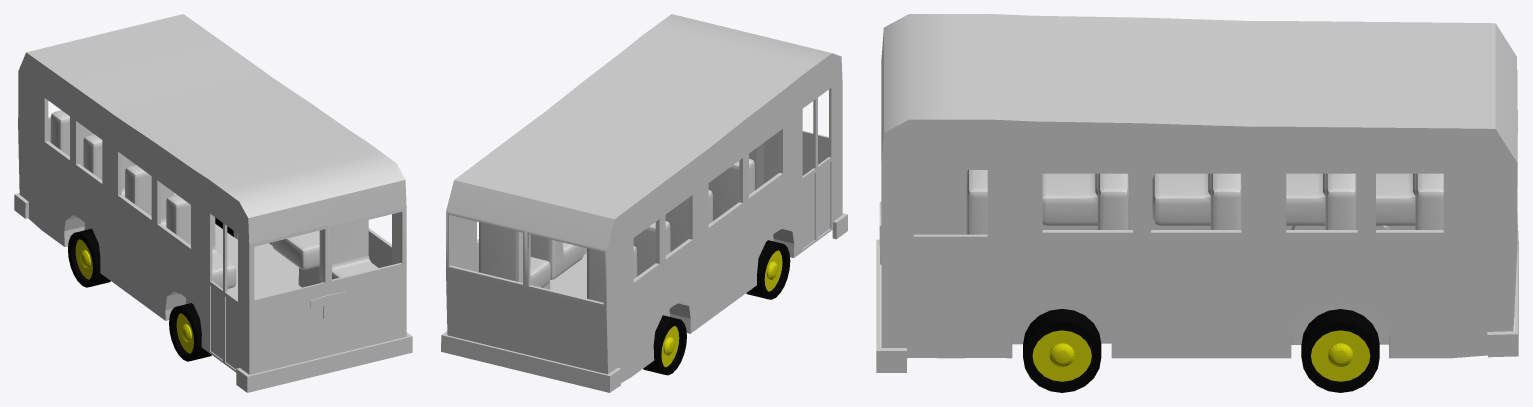
The model's file is Buss_new.fbx.
3 renders of one model, left to right at view 1: azimuth 30°, elevation 25°; view 2: azimuth 150°, elevation 25°; view 3: azimuth 270°, elevation 25°, orthographic. The views are drawn at different scales.
Parts seen in each view (by area): view 1: pCube1, pCube2, pCube26, pCube31, pCylinder13, pCylinder12, pPlane1, pCube32, pCube27, pCube34, pCube33, pCube4; view 2: pCube1, pCube3, pCube30, pPlane1, pCylinder13, pCylinder12, pCube31, pCube29, pCube33, pCube34, pCube32; view 3: pCube1, pCylinder3, pCylinder11, pPlane1, pCube32, pCube31, pCube34, pCube33, pCube29, pCube27, pCube28, pCube30 (+3 smaller).
Boxes of the visible parts, box(x1,y1,x2,y2) form: pCube1: box(18, 14, 406, 374); pCube2: box(236, 332, 412, 392); pCube26: box(319, 220, 378, 282); pCube31: box(166, 195, 236, 288); pCylinder13: box(68, 228, 110, 287); pCylinder12: box(169, 303, 211, 361); pPlane1: box(211, 286, 237, 369); pCube32: box(125, 164, 173, 226); pCube27: box(272, 230, 319, 269); pCube34: box(50, 110, 93, 166); pCube33: box(83, 134, 132, 196); pCube4: box(310, 292, 346, 318); pCube1: box(446, 14, 842, 382); pCube3: box(441, 331, 621, 392); pCube30: box(479, 222, 550, 287); pPlane1: box(802, 162, 830, 248); pCylinder13: box(643, 315, 686, 375); pCylinder12: box(746, 240, 790, 299); pCube31: box(708, 158, 754, 220); pCube29: box(530, 234, 583, 279); pCube33: box(633, 221, 670, 276); pCube34: box(587, 246, 637, 302); pCube32: box(665, 190, 712, 251); pCube1: box(881, 14, 1517, 358); pCylinder3: box(1023, 309, 1101, 392); pCylinder11: box(1301, 309, 1379, 392); pPlane1: box(913, 170, 967, 234); pCube32: box(1152, 173, 1210, 225); pCube31: box(1042, 173, 1097, 225); pCube34: box(1376, 173, 1415, 225); pCube33: box(1286, 173, 1325, 225); pCube29: box(1325, 173, 1357, 229); pCube27: box(1097, 173, 1129, 229); pCube28: box(1210, 173, 1241, 229); pCube30: box(1415, 173, 1443, 229).
Size of the model in its own units: 2.6 by 2.99 by 6.36.
